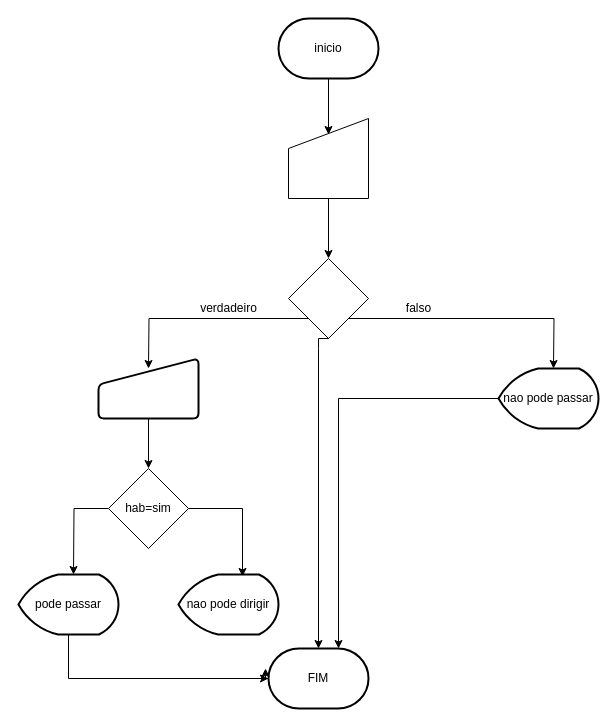
Image size: 616x726. Some labels were removed from this diagram. The centre of each missing label's shape, as x and y in pixels:
habilitação: the point at 148,388
idade: the point at 328,158
idade+18: the point at 328,298
